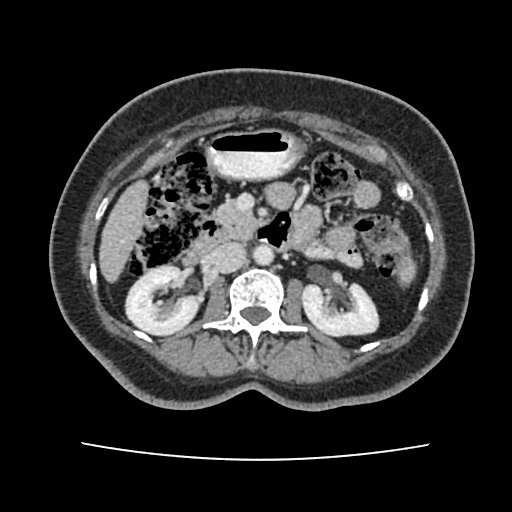aorta: (250, 243, 276, 265)
